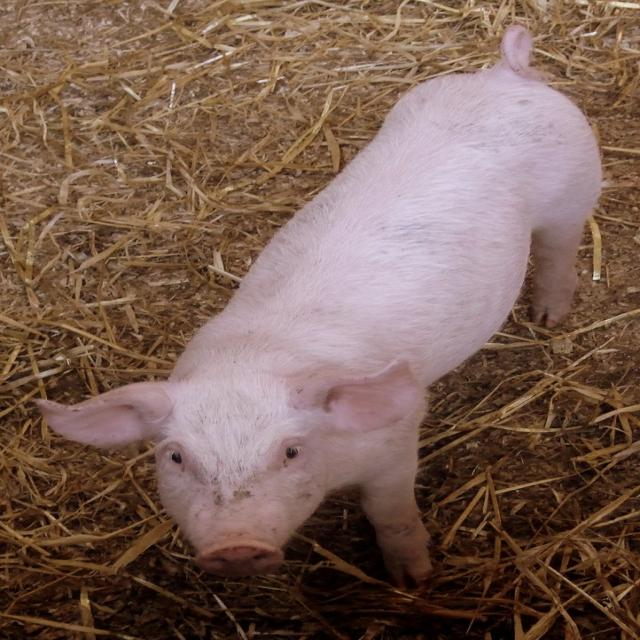Pig: (30, 22, 604, 580)
